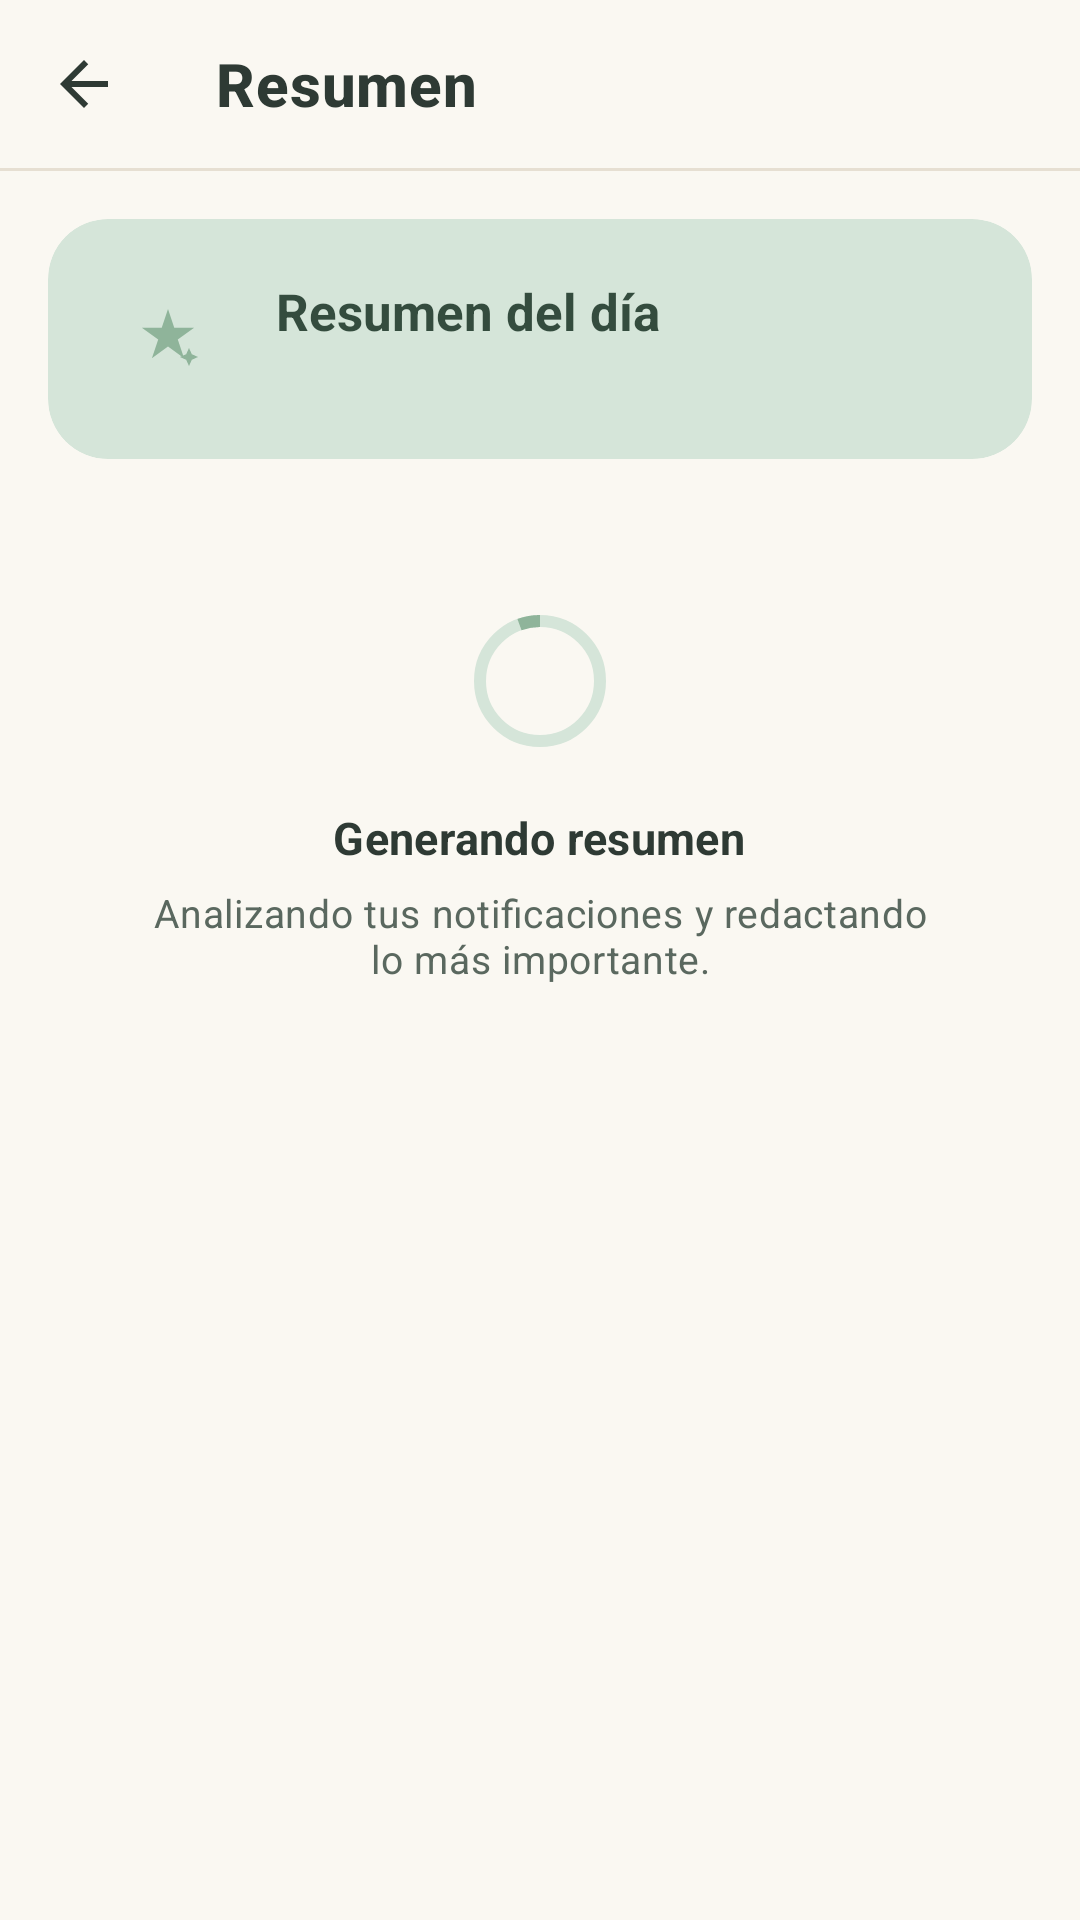

Screen size 1080*1920. Icon name, then its center in pixels as (x,y):
sparkle: (170,337)
